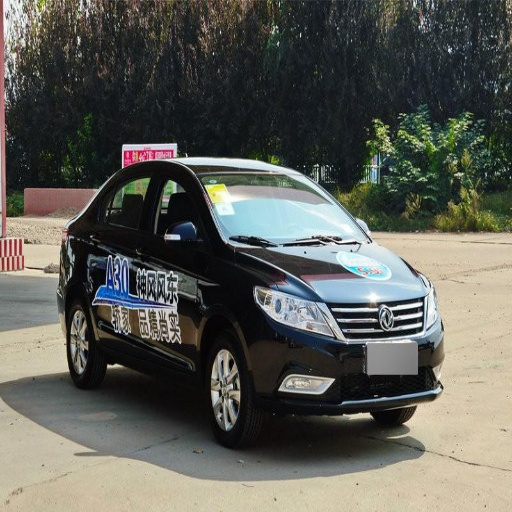front_bumper: (246, 294, 444, 411)
front_right_door: (121, 163, 205, 355)
front_right_light: (254, 276, 332, 333)
